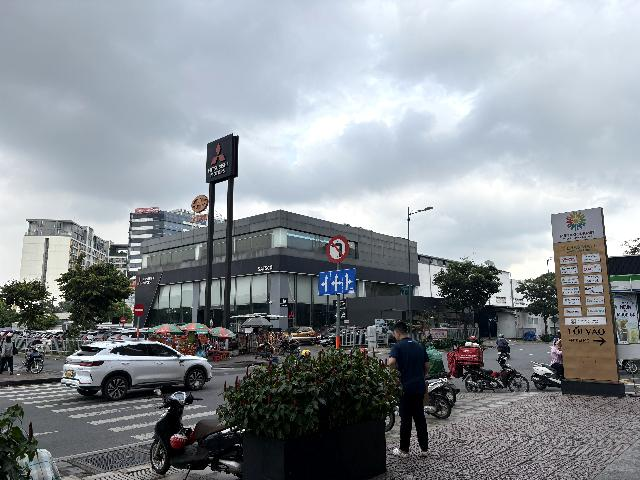cam-di-nguoc-chieu: (134, 304, 145, 316)
cam-re-trai: (327, 235, 349, 263)
